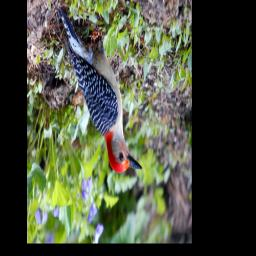Woodpecker: (57, 6, 142, 174)
